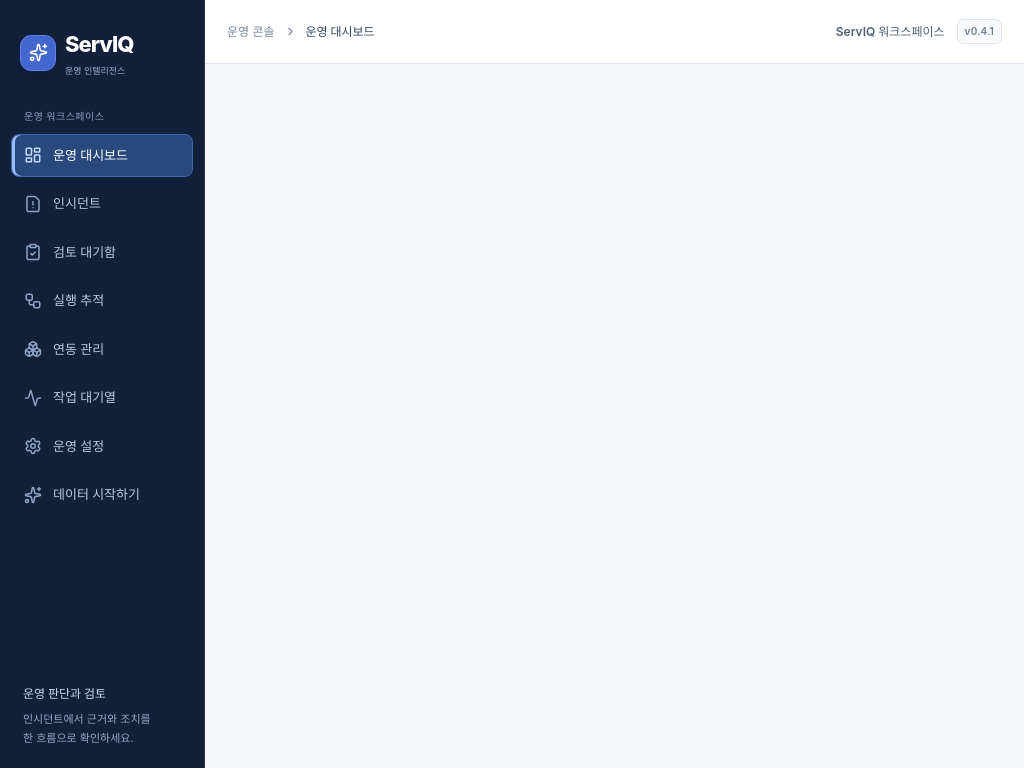
Scenario: ServIQ 운영 콘솔 › 목록을 유지한 채 상세를 팝업으로 연다
This screenshot has width=1024, height=768.
Click the button "인시던트".
click(102, 204)  # box left=11, top=182, right=193, bottom=226
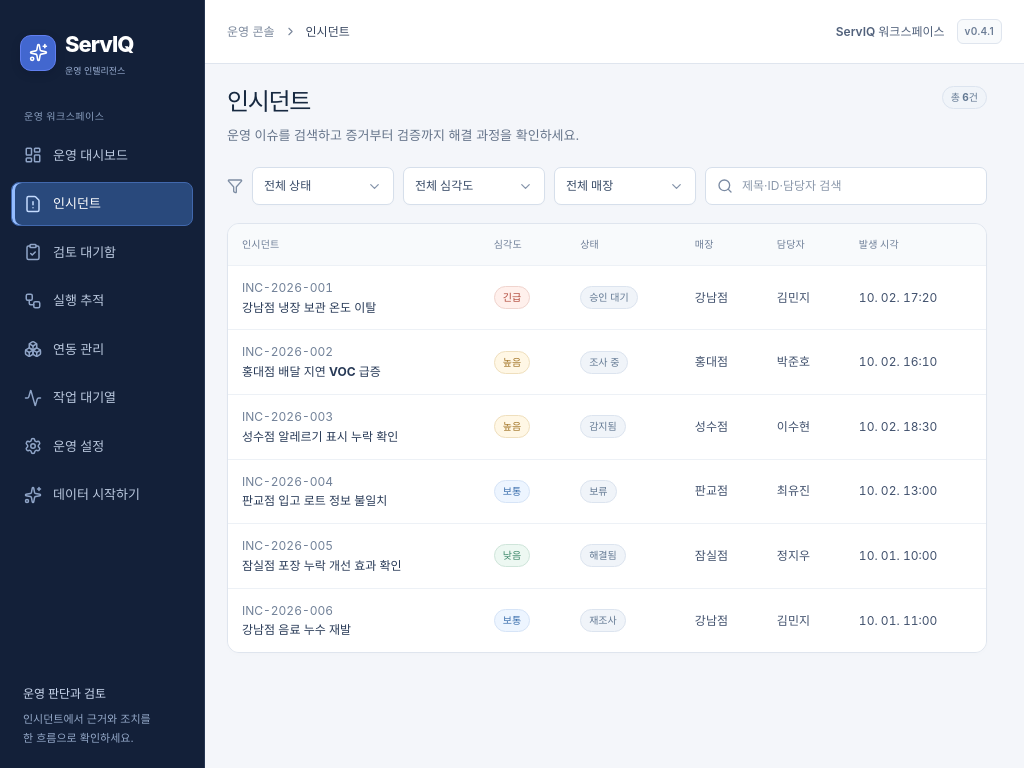
Click the button "강남점 냉장 보관 온도 이탈".
click(309, 307)  # box left=242, top=298, right=376, bottom=317
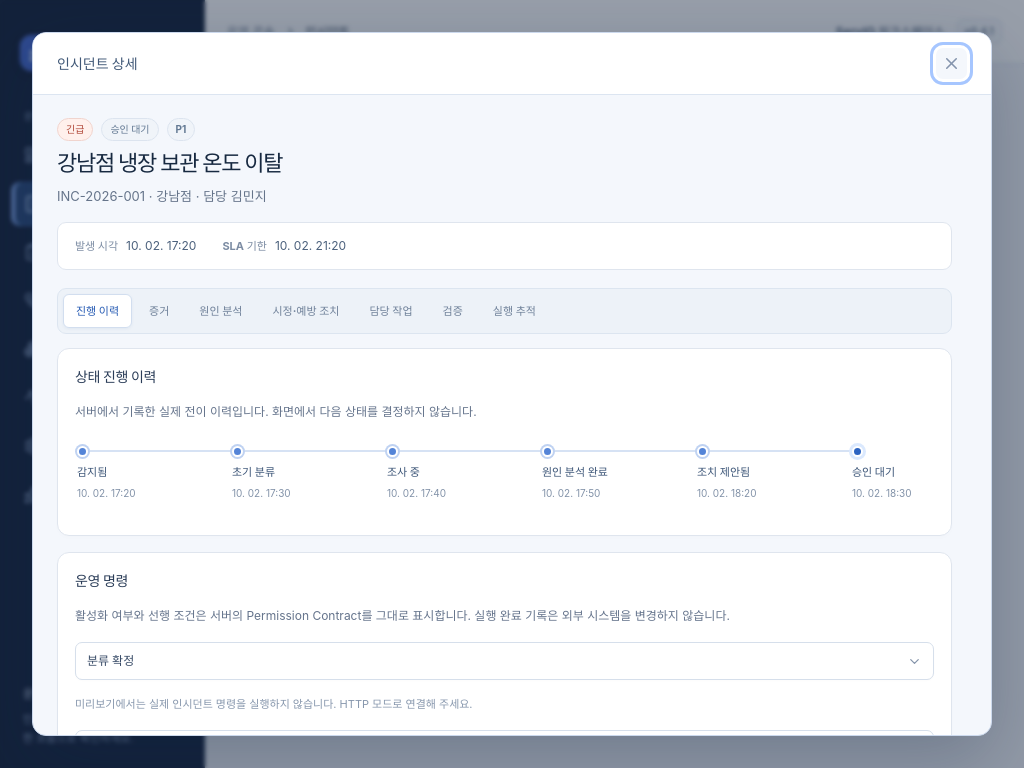
Now the dialog is shown
Press the mouse on the tab "시정·예방 조치" at (306, 311), box left=259, top=294, right=352, bottom=328
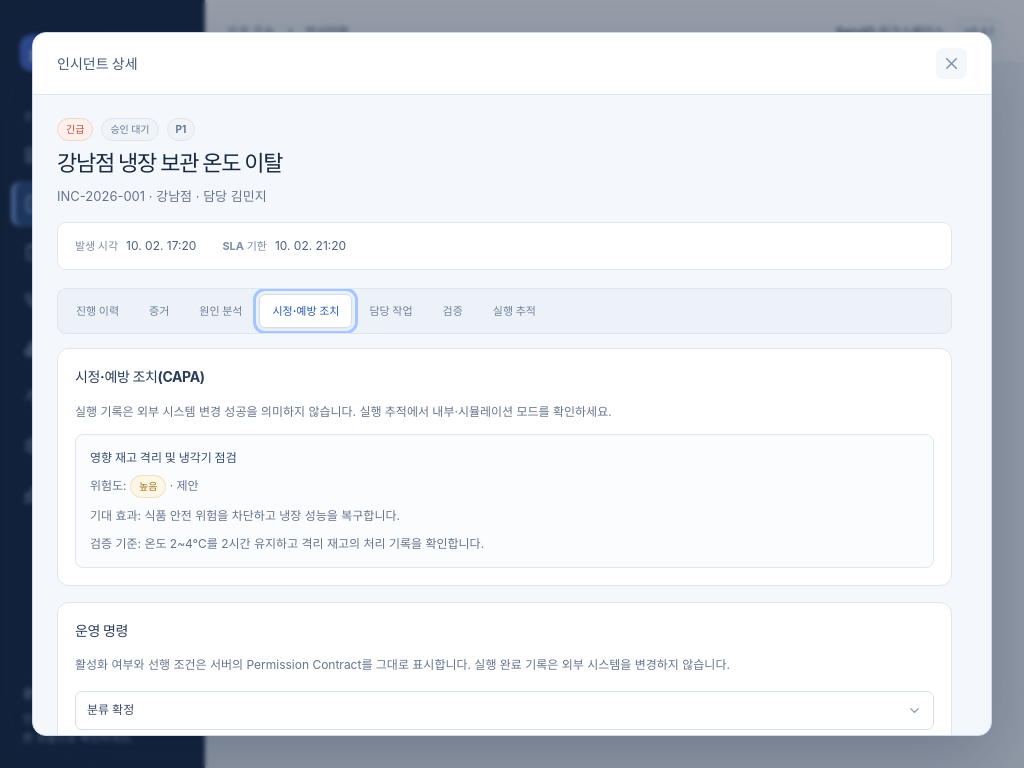
Now the heading "시정·예방 조치(CAPA)" is shown, box left=75, top=368, right=205, bottom=385
